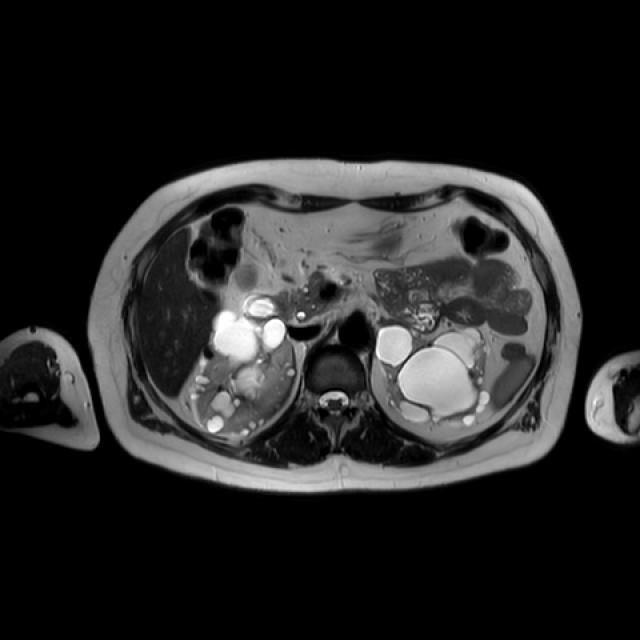sag: (191, 309, 296, 437)
sol: (375, 324, 492, 429)
